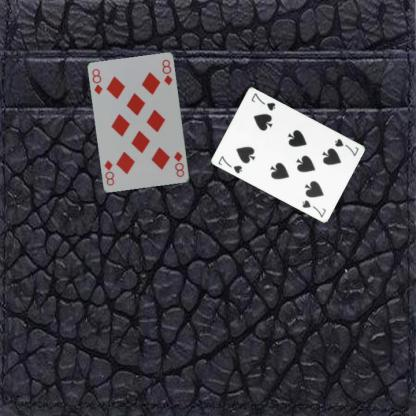7s: (215, 153, 244, 175), (332, 136, 360, 157)
8d: (172, 149, 186, 179), (90, 66, 104, 96)
